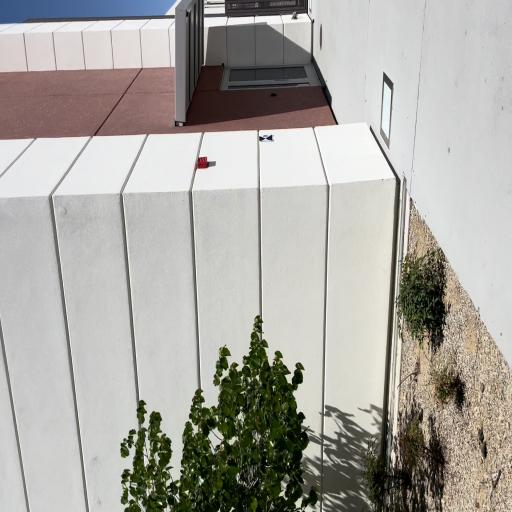target9: (259, 134, 273, 141)
